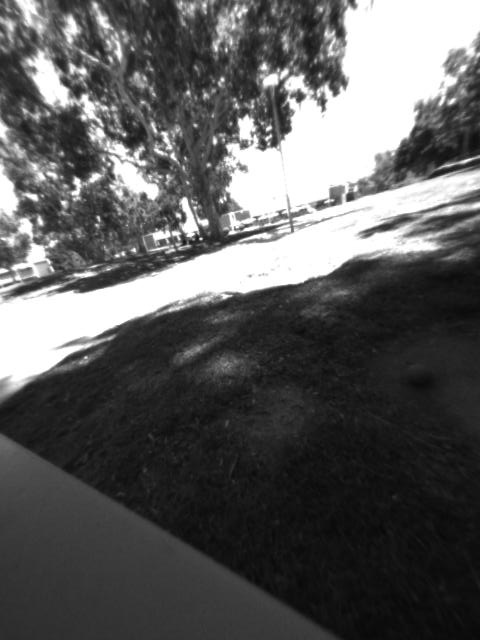dogtoy: (392, 350, 446, 396)
